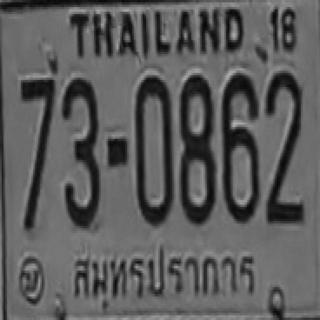N00: (134, 75, 172, 224)
N02: (264, 70, 303, 204), (266, 89, 302, 221)
N03: (61, 76, 99, 227)
N06: (221, 71, 258, 221)
N07: (19, 78, 54, 224), (19, 78, 54, 205), (19, 78, 54, 190), (19, 78, 54, 179)
N08: (179, 74, 214, 222)
P57: (69, 240, 262, 300)
